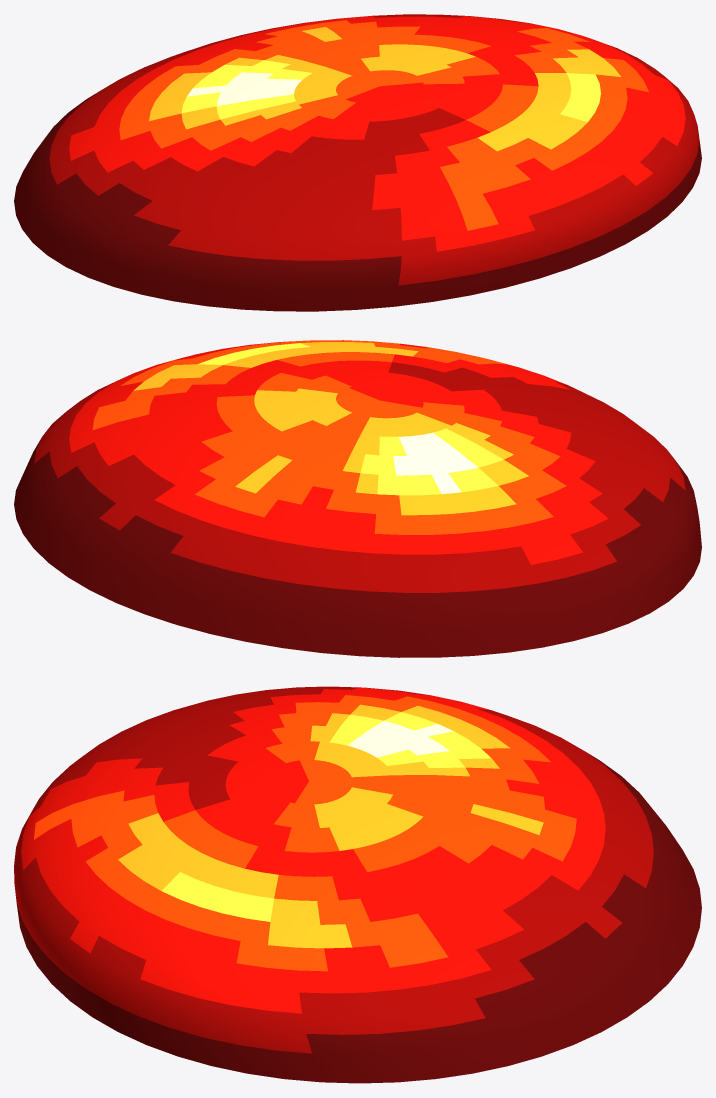
The model's file is ixm_boss_eye_281.glb.
3 views of the same model, one above another, from view 1: azimuth 30°, elevation 25°; view 2: azimuth 150°, elevation 25°; view 3: azimuth 270°, elevation 25° (orthographic). The views are drawn at different scales.
Visible parts, largest first — view 1: ixm_boss_eye_281; view 2: ixm_boss_eye_281; view 3: ixm_boss_eye_281.
Boxes of the visible parts, <box> form: ixm_boss_eye_281: <box>14,14,701,311</box>; ixm_boss_eye_281: <box>14,340,701,657</box>; ixm_boss_eye_281: <box>14,686,701,1083</box>.
Bounding box in the file's own units: 20.81 × 3.5 × 17.23.
